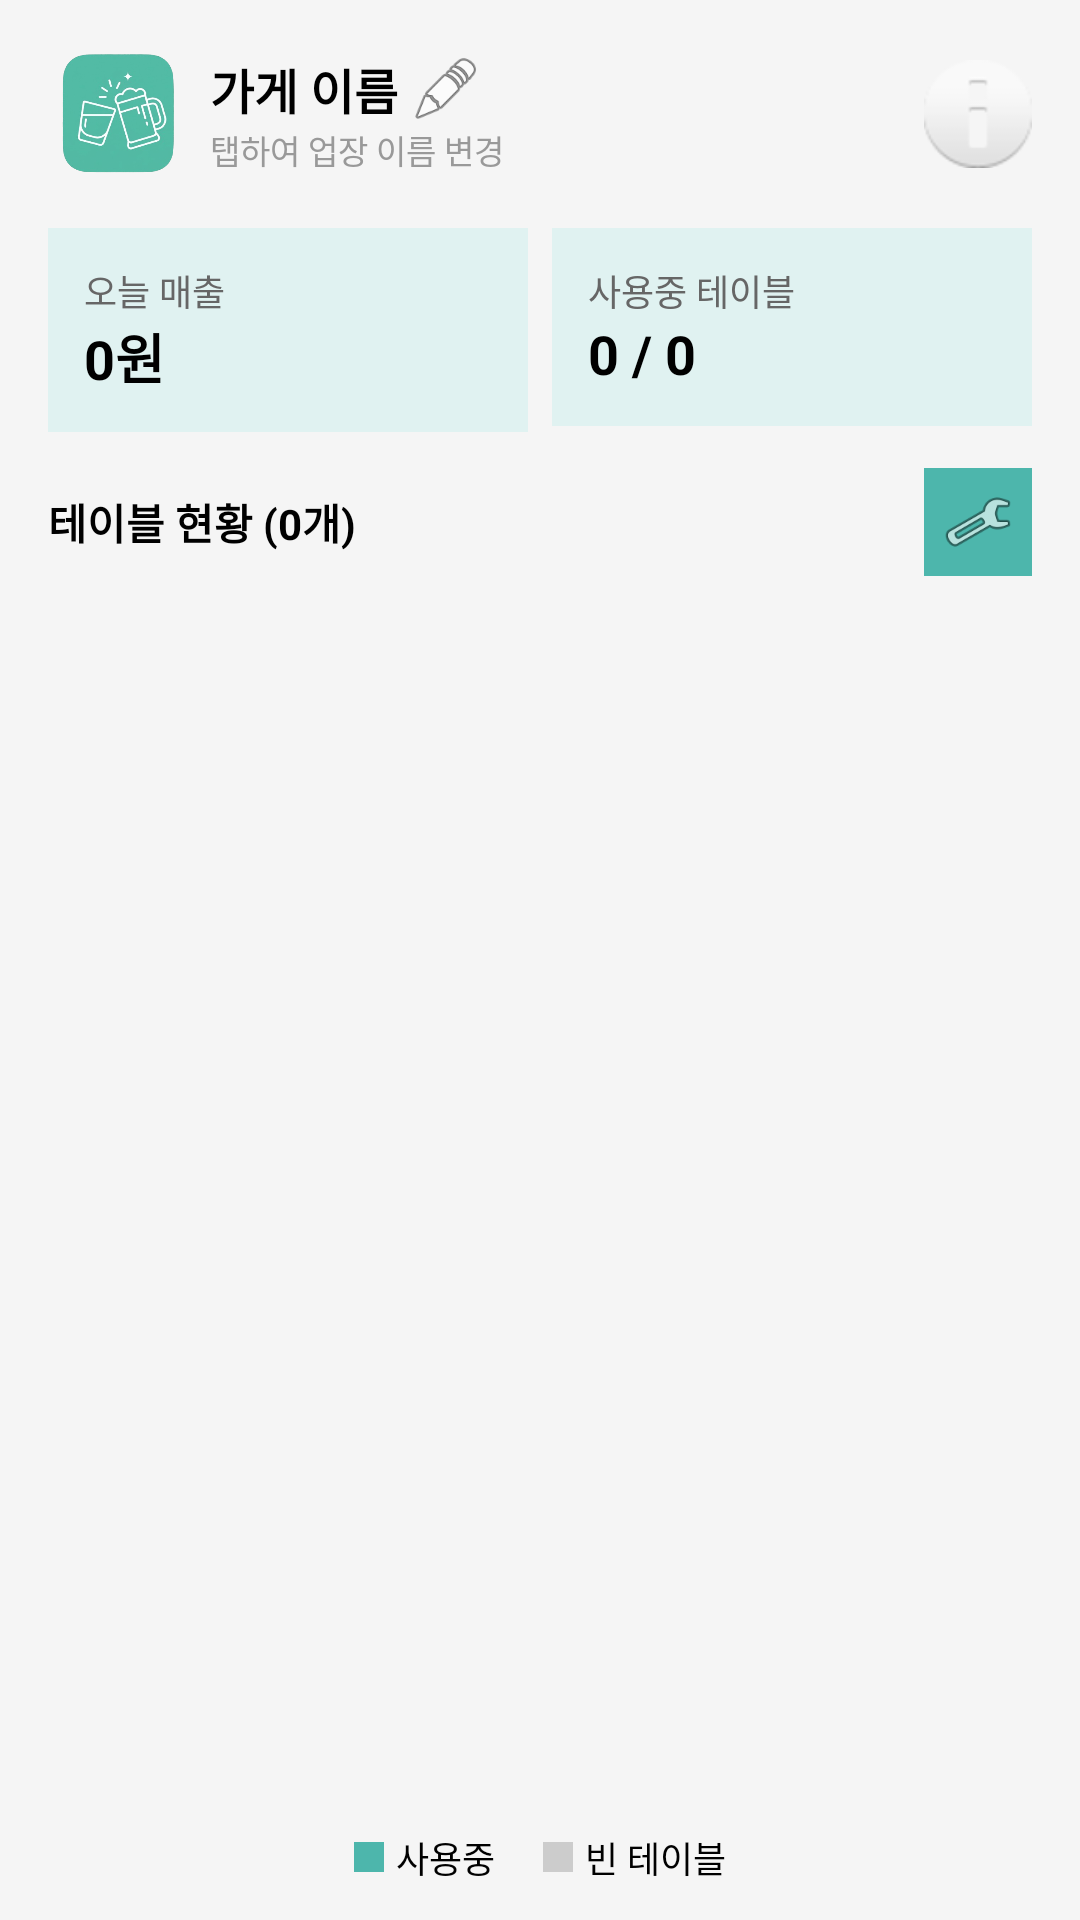

Icon bounding boxes for this 1080 x 1920 phone screenshot, format detection(x1, y1, x2, y2):
edit: detection(415, 58, 476, 119)
info: detection(924, 80, 1032, 168)
preferences: detection(924, 468, 1032, 576)
